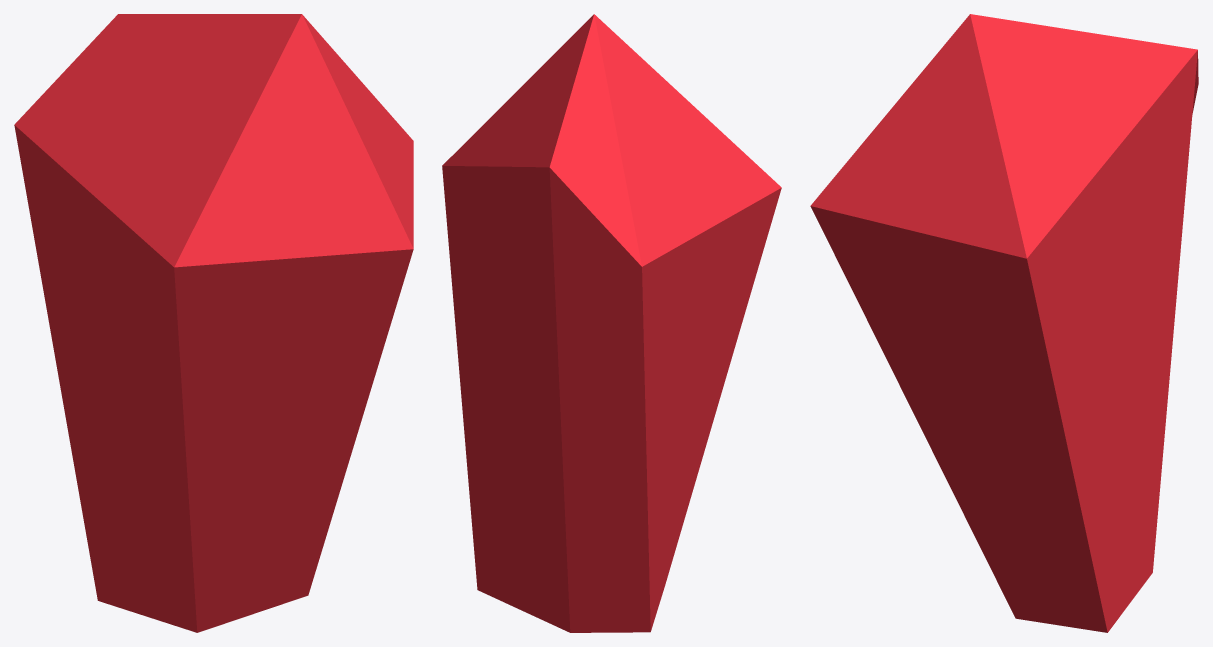
The model's file is redCrystal2.fbx.
3 renders of one model, left to right at view 1: azimuth 30°, elevation 25°; view 2: azimuth 150°, elevation 25°; view 3: azimuth 270°, elevation 25°, orthographic. The views are drawn at different scales.
Parts seen in each view (by area): view 1: Circle; view 2: Circle; view 3: Circle.
Boxes of the visible parts, bbox=[...] form: Circle: bbox=[14, 14, 413, 632]; Circle: bbox=[442, 14, 781, 632]; Circle: bbox=[810, 14, 1198, 632].
Bounding box in the file's own units: 189 × 352 × 210.
